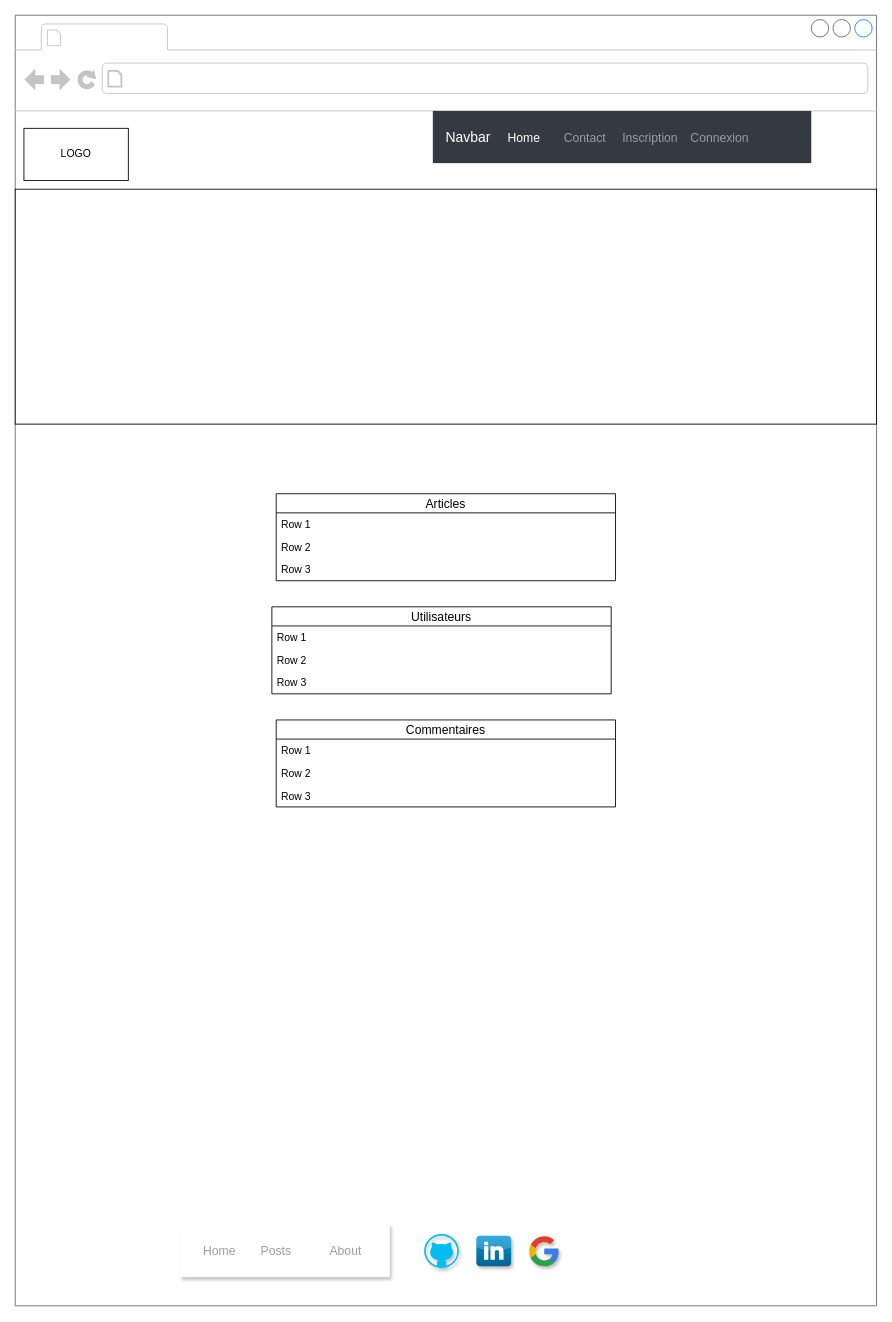
The diagram is 892 pixels wide and 1322 high, and some of its shapes have lost their labels. The shapes that lost their labels are listed below. From the top down, each one's centre as x and y in pixels, then its label:
the point at 115,36: Page 1
the point at 236,78: https://www.JgPhil.com
the point at 445,306: Titre
